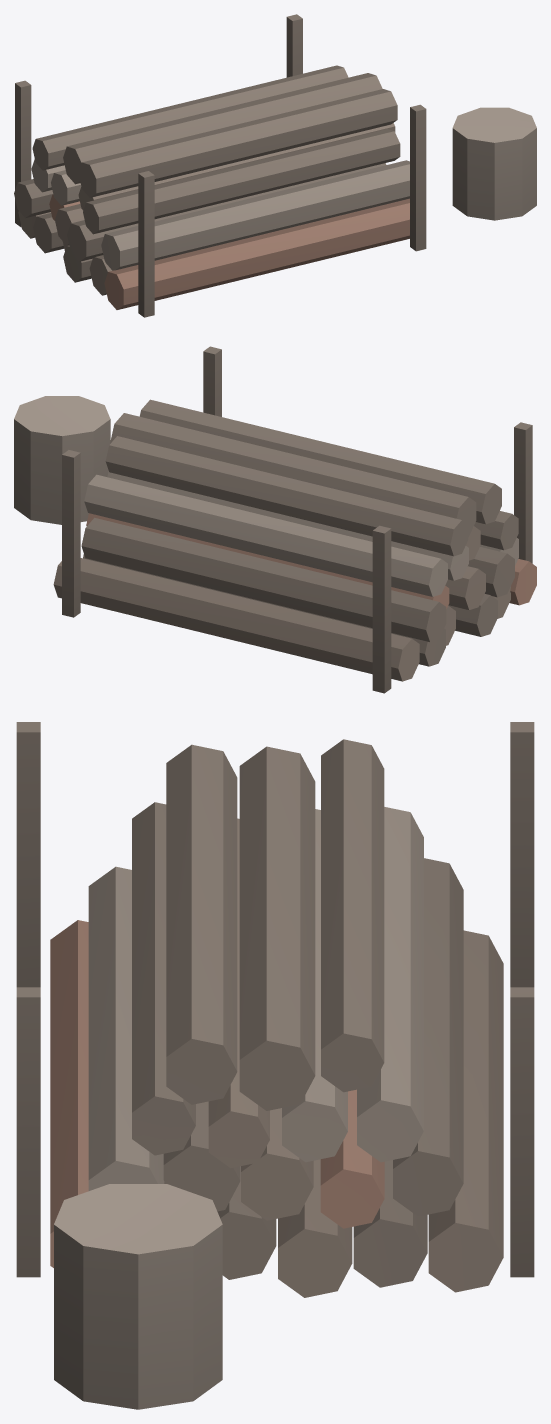
Rendered from woodpile_0.glb.
3 renders of one model, top to bottom at view 1: azimuth 30°, elevation 25°; view 2: azimuth 150°, elevation 25°; view 3: azimuth 270°, elevation 25°, orthographic. The views are drawn at different scales.
Visible parts, largest first — view 1: woodpile_0; view 2: woodpile_0; view 3: woodpile_0.
Part boxes in pixels (x1,y1,x2,y2): woodpile_0: (14,14,536,317); woodpile_0: (14,346,536,693); woodpile_0: (16,722,534,1409).
Size of the model in its own units: 2.96 by 0.907 by 1.51.
